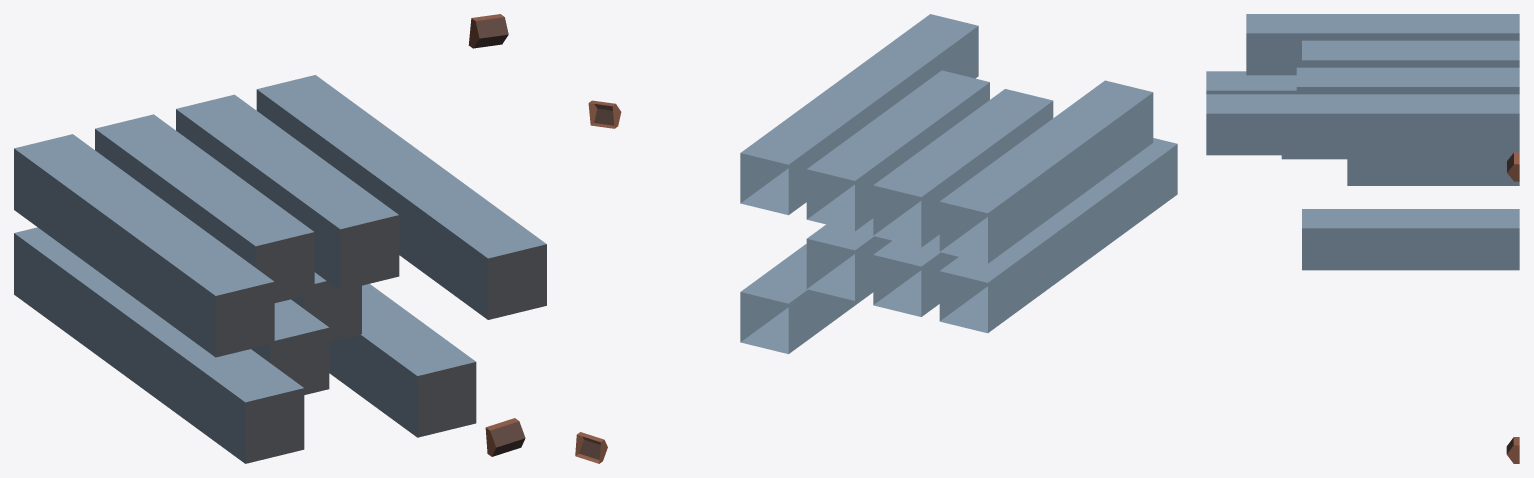
The model's file is island_bldg_07_02.obj.
3 views of the same model, side by side, from view 1: azimuth 30°, elevation 25°; view 2: azimuth 150°, elevation 25°; view 3: azimuth 270°, elevation 25° (orthographic). The views are drawn at different scales.
Parts seen in each view (by area): view 1: island_bldg_07_02; view 2: island_bldg_07_02; view 3: island_bldg_07_02.
Boxes of the visible parts, x1,y1,x2,y2 form: island_bldg_07_02: (14,14,546,463); island_bldg_07_02: (575,14,1177,463); island_bldg_07_02: (1206,14,1519,463).
Size of the model in its own units: 273 by 229 by 218.
